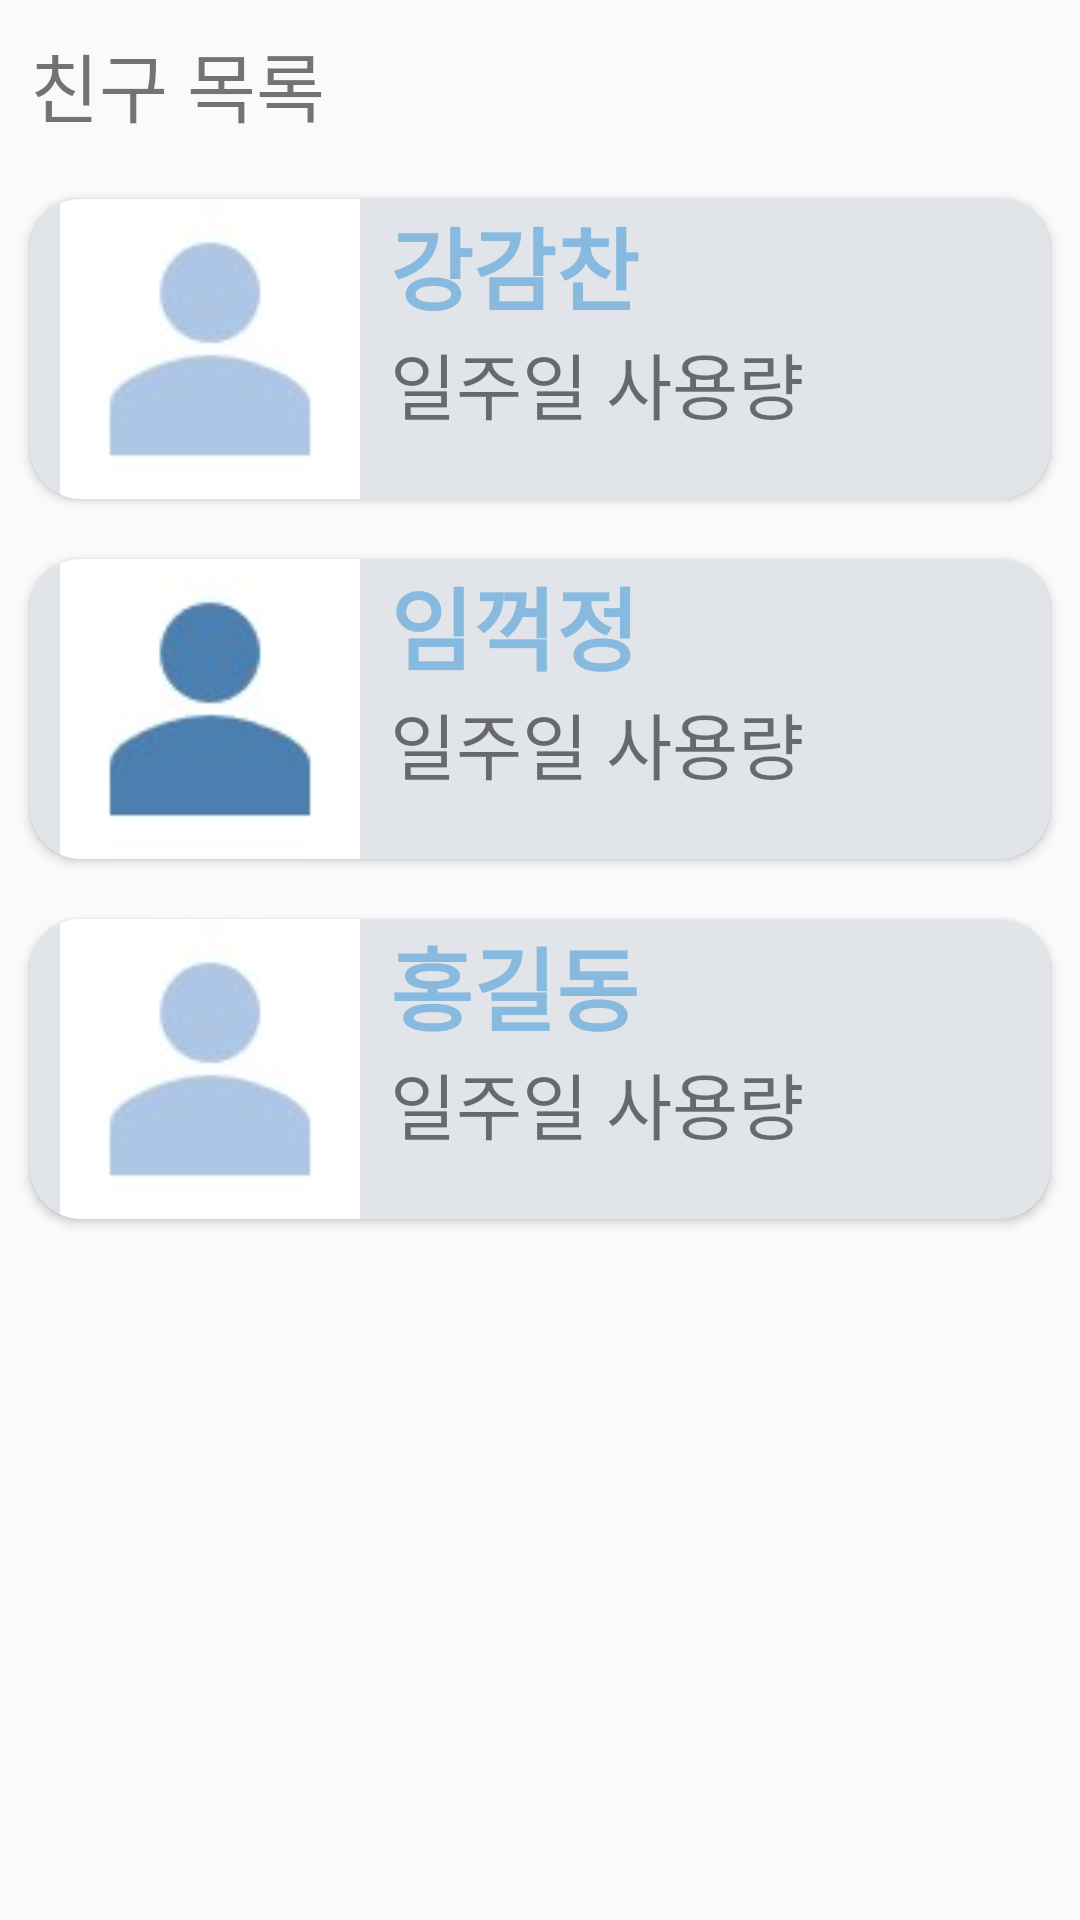

Locate icon controls on the screen. Image size 1080px×1920px, boxes as (x1, y1, x2, y2).
person: (60, 199, 360, 499), (60, 559, 360, 859), (60, 919, 360, 1219)
